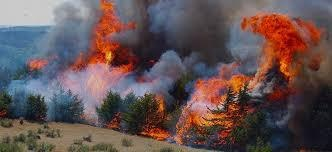fire: (155, 8, 325, 135), (72, 2, 138, 80), (24, 53, 53, 70)
